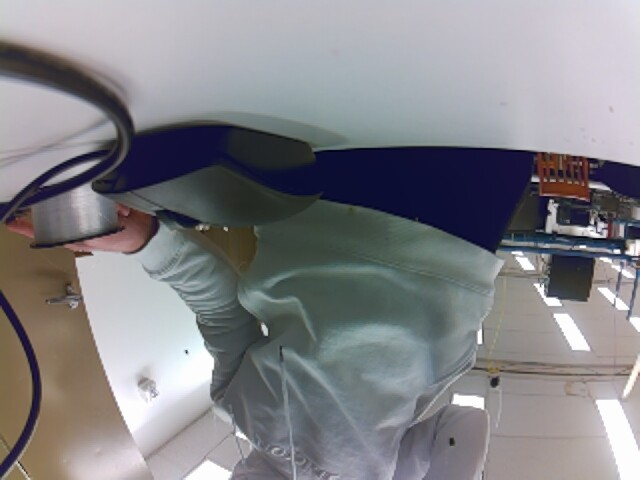mosquito: (489, 372, 501, 391), (448, 435, 456, 448), (184, 348, 189, 356)
